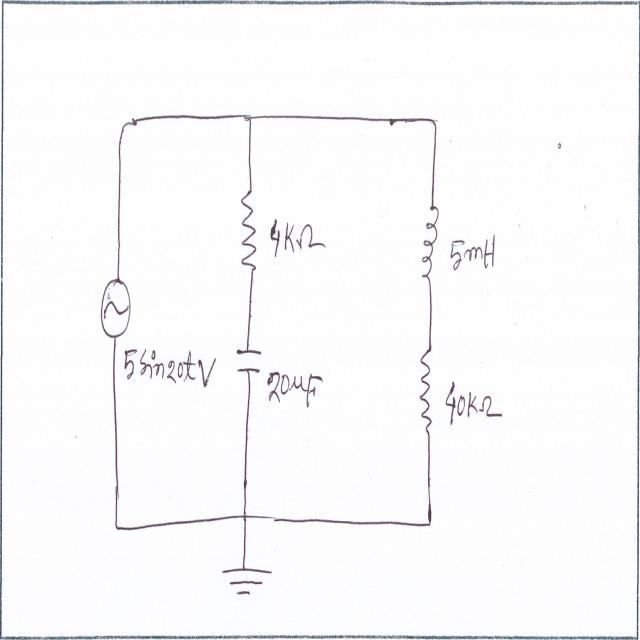ac_current: (95, 271, 134, 342)
capacitor: (235, 344, 263, 380)
ground: (220, 564, 276, 604)
inductor: (416, 196, 440, 281)
resistor: (417, 347, 438, 437), (238, 187, 259, 276)
